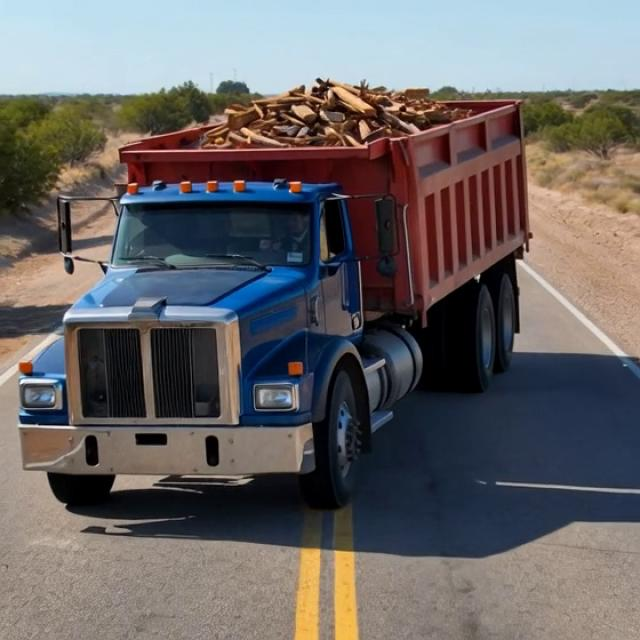Box: (120, 78, 521, 162)
Truck: (18, 61, 557, 499)
